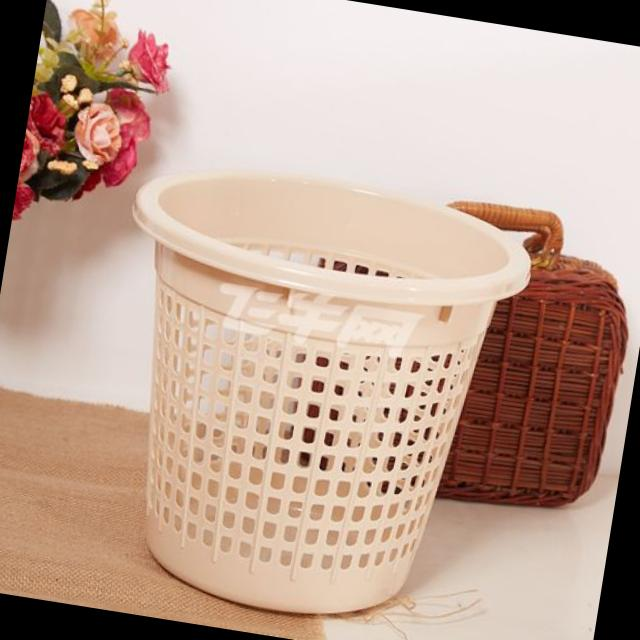dustbin: (72, 140, 543, 640)
